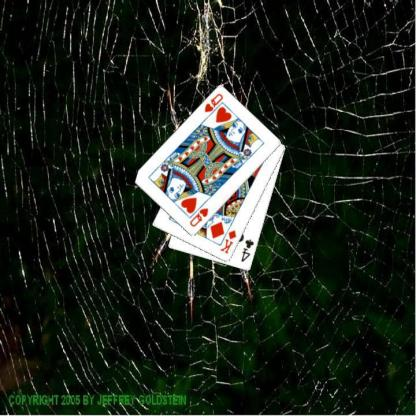4C: (238, 237, 254, 263)
KD: (218, 228, 237, 255)
QH: (201, 91, 224, 120), (187, 206, 210, 228)
